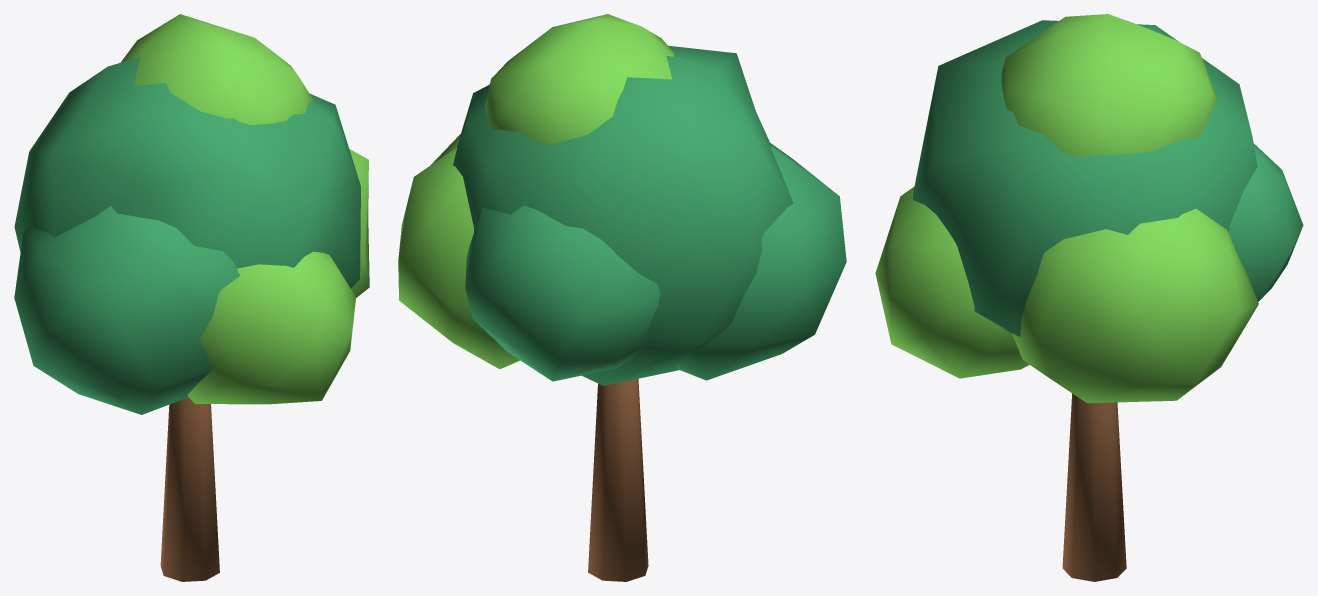
File: tree_green.glb
3 renders of one model, left to right at view 1: azimuth 30°, elevation 25°; view 2: azimuth 150°, elevation 25°; view 3: azimuth 270°, elevation 25°, orthographic. The views are drawn at different scales.
Visible parts, largest first — view 1: tree_green; view 2: tree_green; view 3: tree_green.
Part boxes in pixels (x1=…): tree_green: x1=14, y1=14, x2=369, y2=581; tree_green: x1=398, y1=14, x2=846, y2=581; tree_green: x1=875, y1=14, x2=1303, y2=581.
Size of the model in its own units: 3.84 by 5.42 by 3.74.
